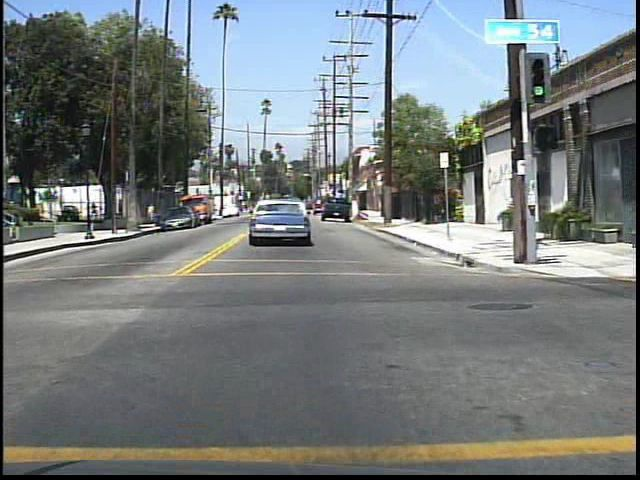person: (113, 195, 127, 219), (146, 197, 157, 225), (88, 198, 100, 220)
